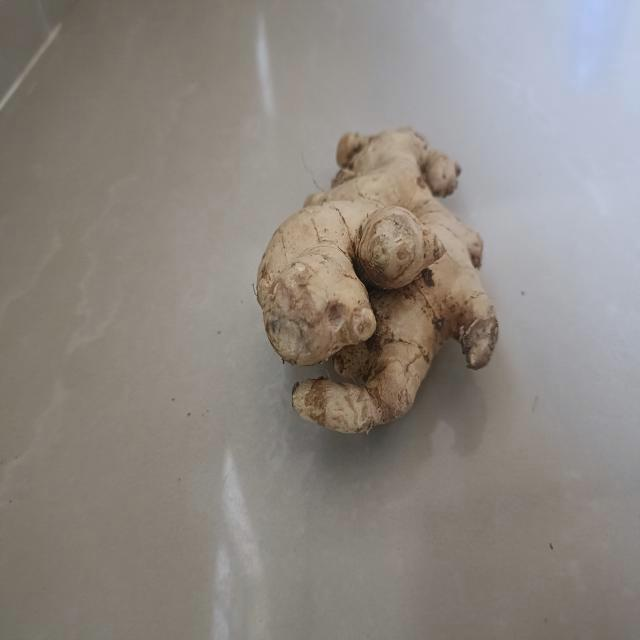ginger: (248, 115, 506, 452)
